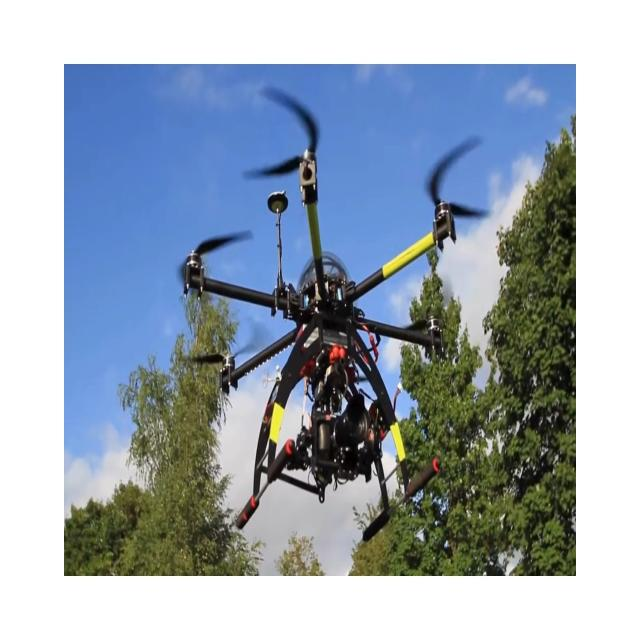drone: (178, 83, 492, 542)
